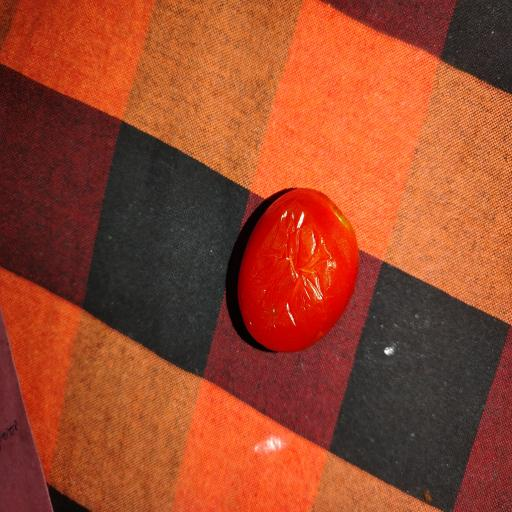spoiled: (238, 189, 358, 351)
